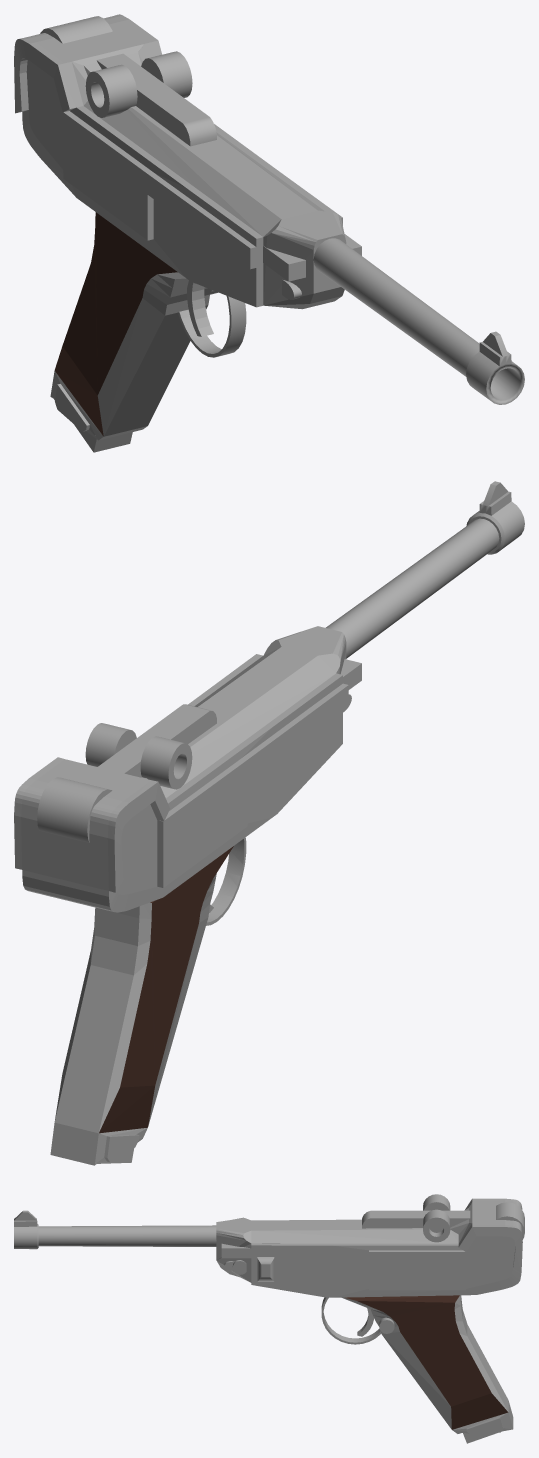
Rendered from Luger_po8.fbx.
The picture shows the model from 3 angles, top to bottom: view 1: azimuth 30°, elevation 25°; view 2: azimuth 150°, elevation 25°; view 3: azimuth 270°, elevation 25°; orthographic projection. The views are drawn at different scales.
Visible parts, largest first — view 1: pCube1, pCylinder1, pCube2, pCylinder13, pCylinder10, pCylinder6, pCube3, pCylinder5, pCylinder12, pCube5; view 2: pCube1, pCylinder1, pCylinder5, pCube2, pCylinder13, pCylinder10, pCylinder6; view 3: pCube1, pCylinder1, pCube2, pCylinder6, pCylinder5, pCylinder10, pCube4, pCube3, pCylinder13.
Part boxes in pixels (bbox=[...]): pCube1: bbox=[14, 14, 346, 440]; pCylinder1: bbox=[313, 238, 524, 404]; pCube2: bbox=[96, 53, 216, 146]; pCylinder13: bbox=[85, 64, 137, 117]; pCylinder10: bbox=[178, 296, 246, 357]; pCylinder6: bbox=[141, 51, 192, 97]; pCube3: bbox=[263, 234, 361, 281]; pCylinder5: bbox=[40, 16, 112, 43]; pCylinder12: bbox=[187, 280, 213, 336]; pCube5: bbox=[74, 424, 132, 452]; pCube1: bbox=[14, 626, 348, 1165]; pCylinder1: bbox=[325, 481, 524, 658]; pCylinder5: bbox=[37, 777, 112, 842]; pCube2: bbox=[98, 704, 216, 777]; pCylinder13: bbox=[140, 736, 192, 789]; pCylinder10: bbox=[206, 837, 246, 925]; pCylinder6: bbox=[85, 723, 136, 766]; pCube1: bbox=[216, 1198, 522, 1434]; pCylinder1: bbox=[14, 1210, 216, 1249]; pCube2: bbox=[362, 1210, 470, 1228]; pCylinder6: bbox=[423, 1209, 450, 1242]; pCylinder5: bbox=[496, 1202, 524, 1239]; pCylinder10: bbox=[321, 1297, 381, 1344]; pCube4: bbox=[257, 1257, 274, 1281]; pCube3: bbox=[221, 1243, 251, 1258]; pCylinder13: bbox=[423, 1194, 450, 1210].
Bounding box in the file's own units: 0.7123 × 2.71 × 5.38.
